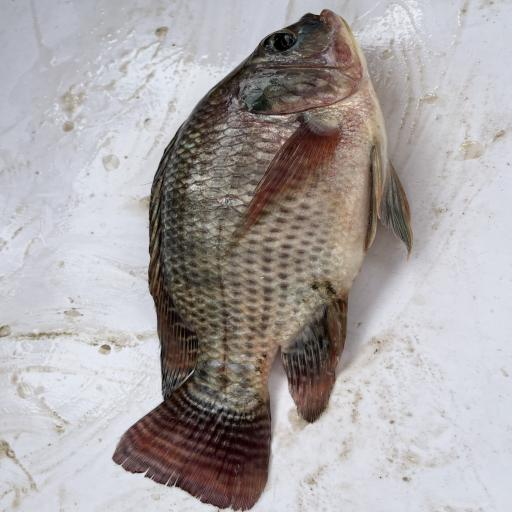Tilapia: (112, 9, 413, 511)
